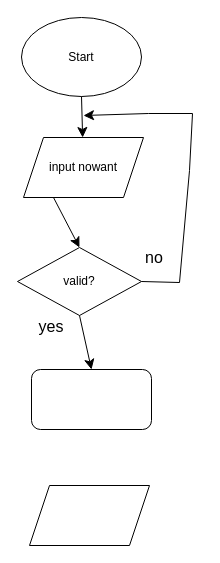
This 220x563 diagram has some shape labels left out. Each missing label, with the centre of its shape:
"input want" goes at point (89, 515).
"run function according to nowant" goes at point (91, 399).
